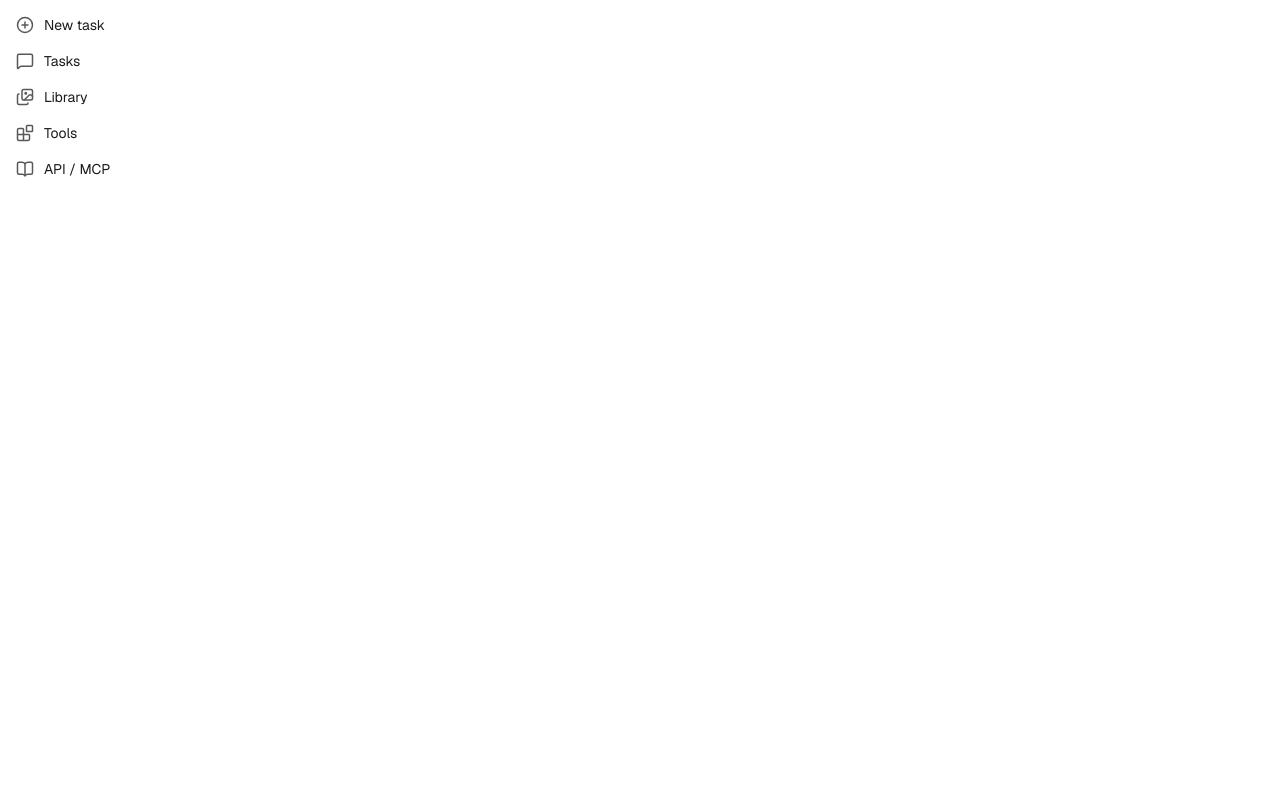
Test: SidebarNav destinations › renders a Library entry point that opens the media picker
What coordinates should you click on to do the following:
click the button "Library"
I would click on:
 (66, 97)
Its box is top-left (8, 80), bottom-right (1272, 114).
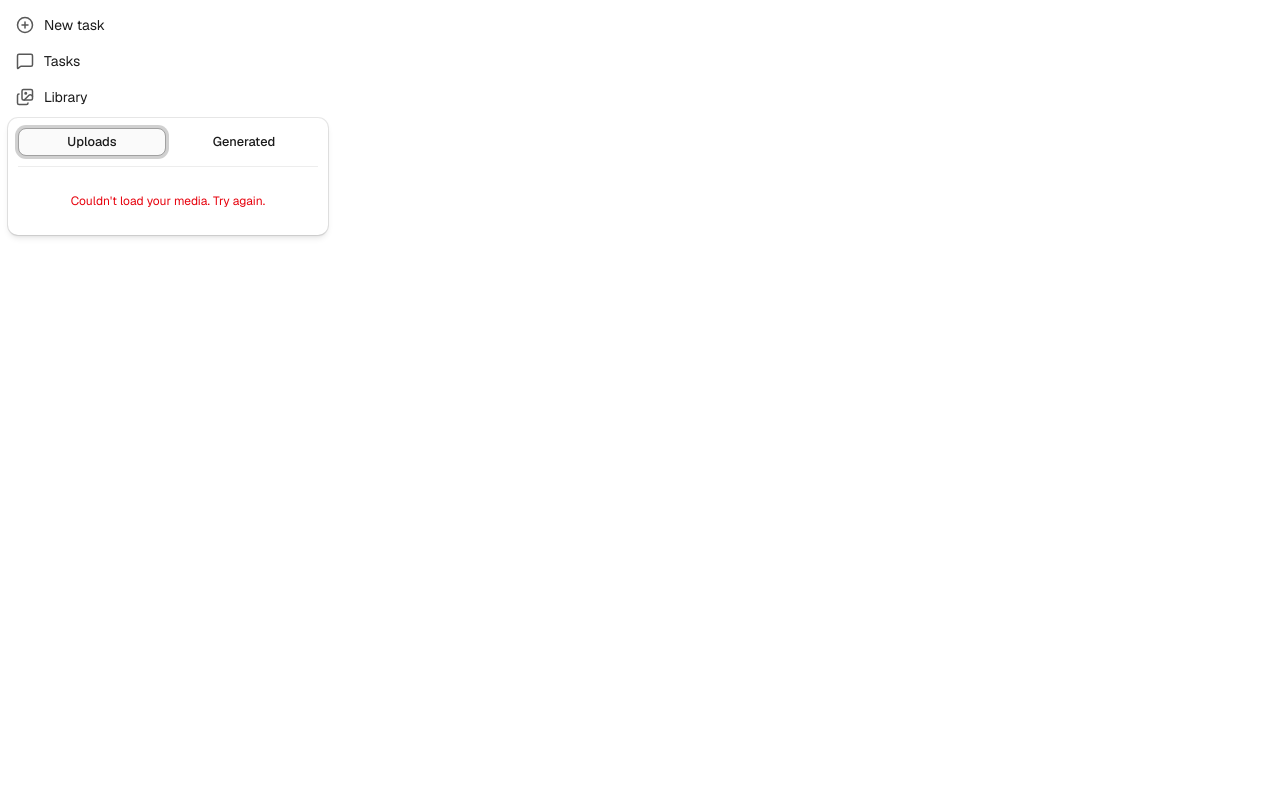
Expected: the tab "Uploads" is shown, top-left (18, 128), bottom-right (166, 156)
